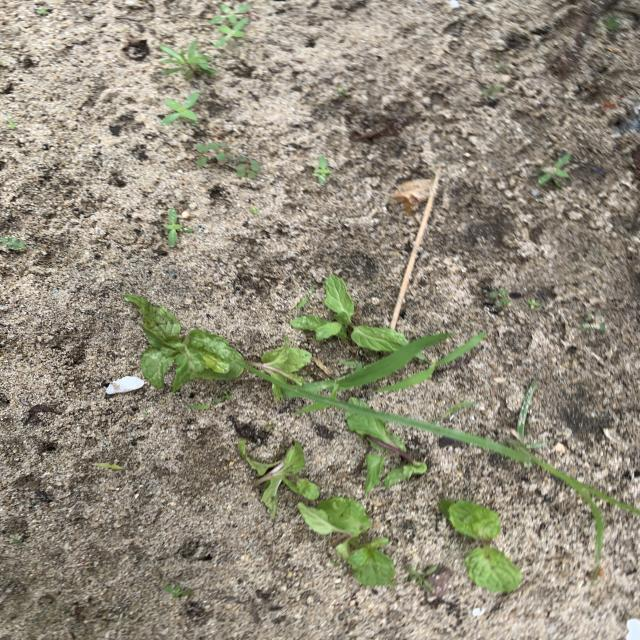crop: (124, 295, 245, 391), (291, 275, 409, 353), (298, 497, 395, 587), (439, 499, 522, 593), (345, 411, 427, 493), (238, 439, 319, 518), (249, 338, 311, 386)
weed: (437, 428, 640, 565), (404, 332, 486, 387), (327, 350, 417, 395), (159, 41, 217, 80), (161, 91, 200, 126), (164, 208, 194, 247), (538, 153, 571, 188), (194, 141, 235, 167), (484, 287, 522, 311), (210, 4, 250, 26), (406, 565, 438, 590), (188, 393, 230, 411), (234, 155, 262, 179), (214, 28, 244, 47), (314, 155, 332, 185), (0, 234, 26, 253), (91, 460, 126, 473), (481, 84, 505, 102), (163, 585, 193, 598), (296, 291, 313, 309), (602, 16, 620, 31), (527, 294, 540, 310), (247, 205, 258, 215)
